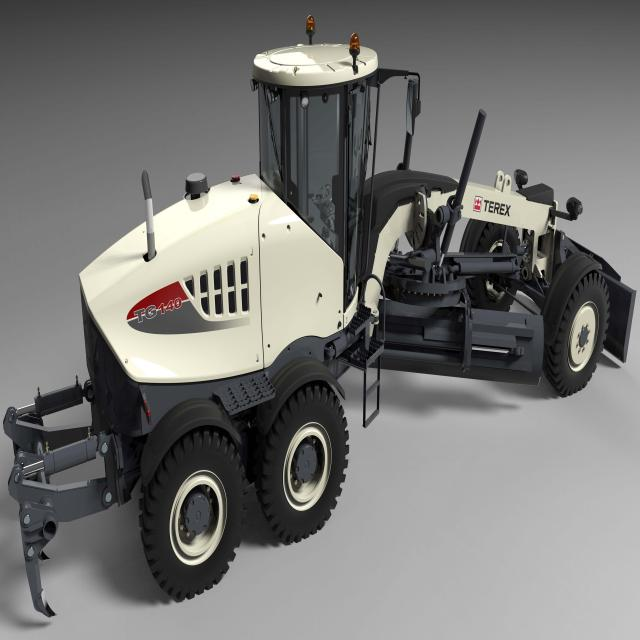Grader: (17, 26, 640, 620)
